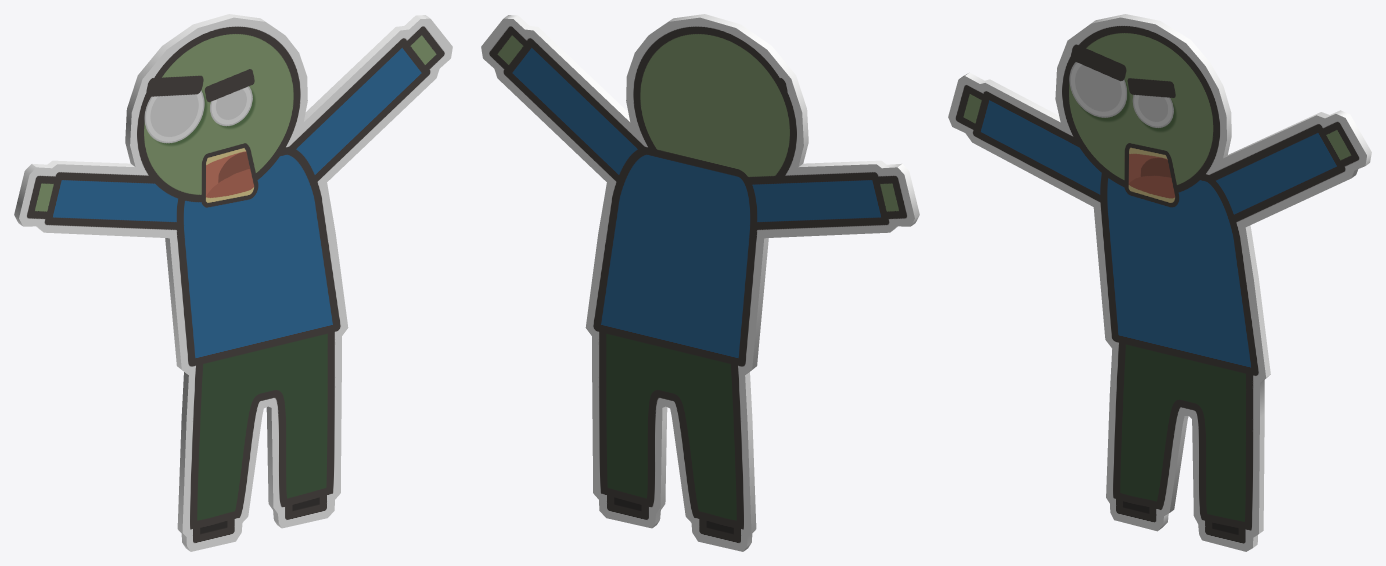
File: Zombie_Aggressive.FBX
3 views of the same model, side by side, from view 1: azimuth 30°, elevation 25°; view 2: azimuth 150°, elevation 25°; view 3: azimuth 330°, elevation 25° (orthographic). The views are drawn at different scales.
Visible parts, largest first — view 1: Zomb_Agressive; view 2: Zomb_Agressive; view 3: Zomb_Agressive.
Boxes of the visible parts, box(x1,y1,x2,y2) form: Zomb_Agressive: box(14, 14, 452, 551); Zomb_Agressive: box(481, 14, 919, 551); Zomb_Agressive: box(948, 14, 1371, 551).
Size of the model in its own units: 72.78 by 84.07 by 1.42.
Materials: 2 (2 with a texture image).
